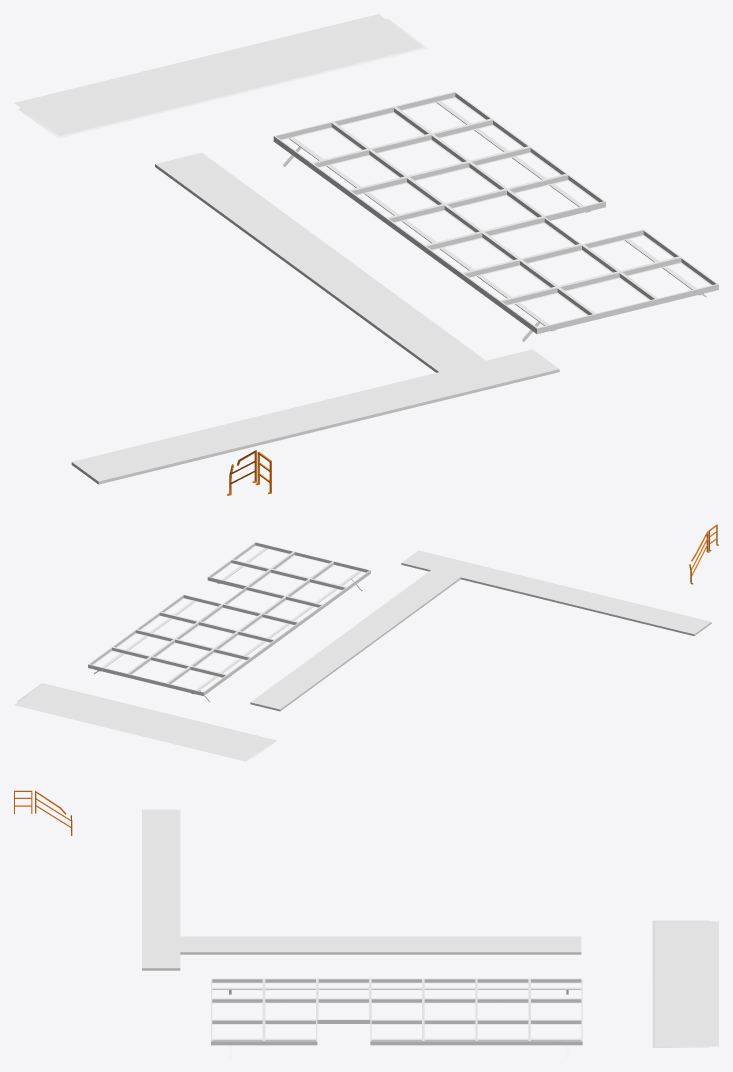
File: SM_H_Building_Tide_WaterDungeon_02i_ATLAS.fbx
3 renders of one model, top to bottom at view 1: azimuth 30°, elevation 25°; view 2: azimuth 150°, elevation 25°; view 3: azimuth 270°, elevation 25°, orthographic. The views are drawn at different scales.
Visible parts, largest first — view 1: SM_H_Building_Tide_WaterDungeon_02i_ATLAS; view 2: SM_H_Building_Tide_WaterDungeon_02i_ATLAS; view 3: SM_H_Building_Tide_WaterDungeon_02i_ATLAS.
Boxes of the visible parts, x1,y1,x2,y2 form: SM_H_Building_Tide_WaterDungeon_02i_ATLAS: (14,14,718,495); SM_H_Building_Tide_WaterDungeon_02i_ATLAS: (14,524,718,761); SM_H_Building_Tide_WaterDungeon_02i_ATLAS: (14,790,718,1057).
Size of the model in its own units: 2218 by 2775 by 281.
